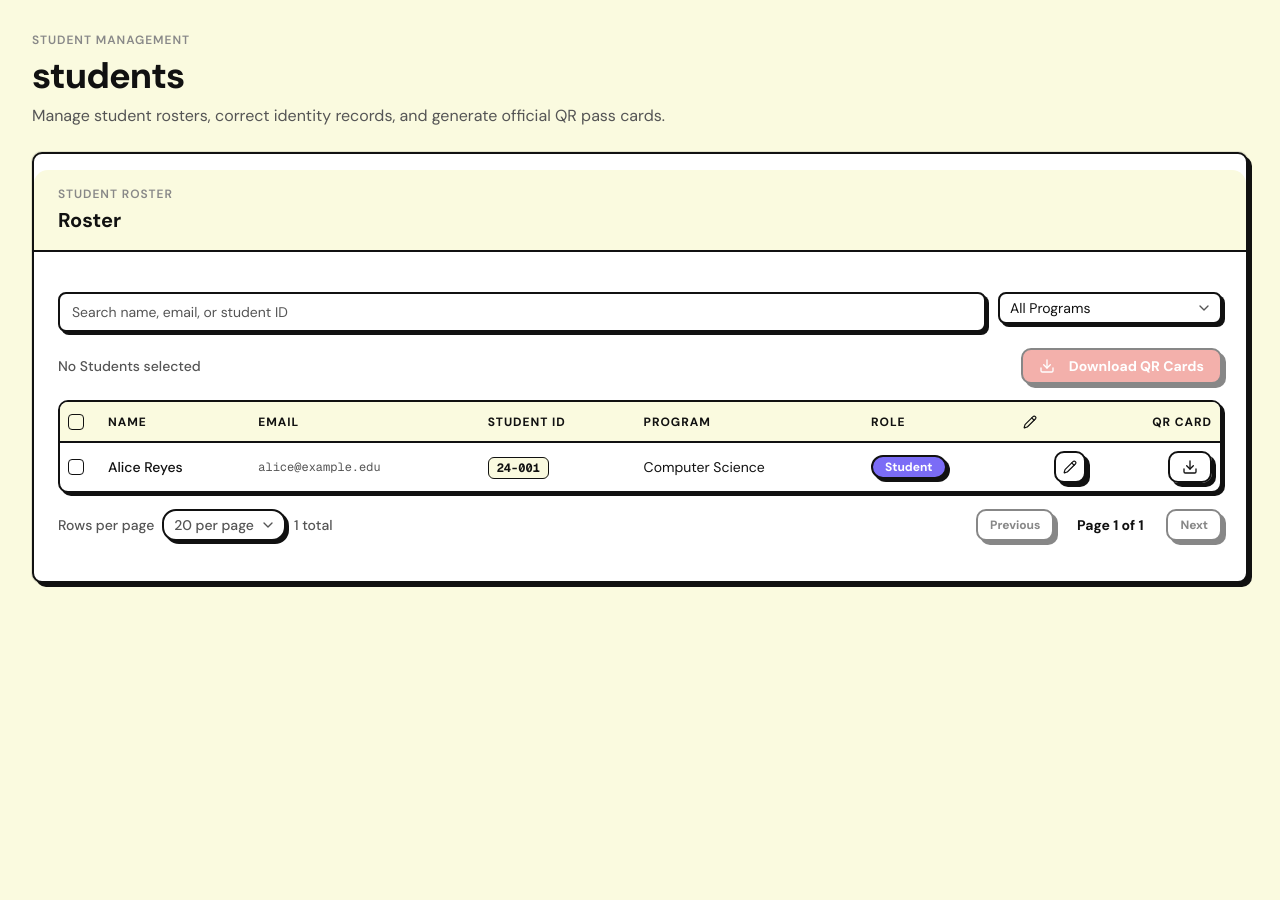
Test: QR Card invalidation confirmation (spec #143) › shows the confirmation modal before applying a Program-only correction
Click the button named "Edit student" at (1070, 467), box [1054,451,1086,483]
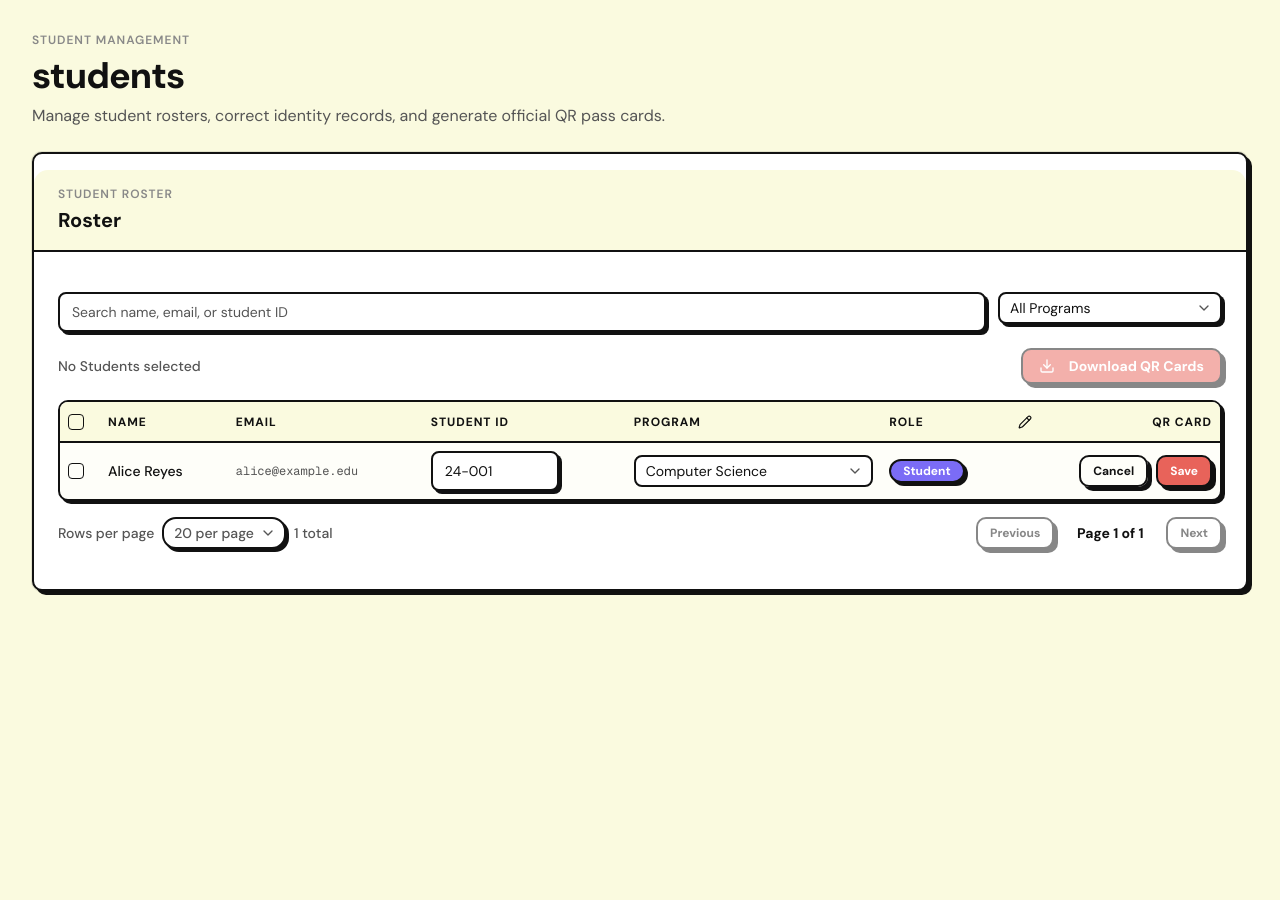
Click the dropdown "Computer Science" at (754, 471), box [634,455,873,487]
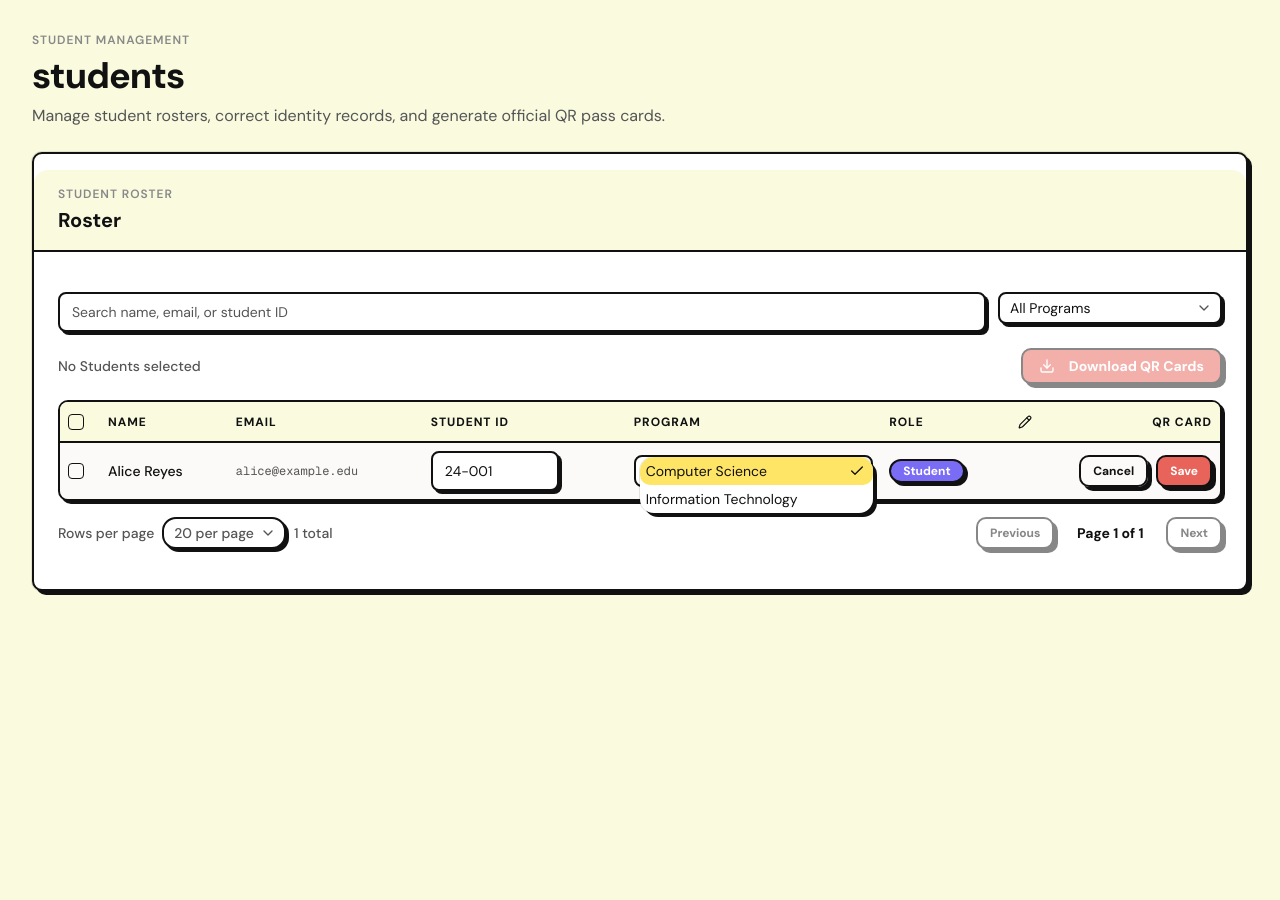
Click the option "Information Technology" at (722, 499), box [646,490,798,508]
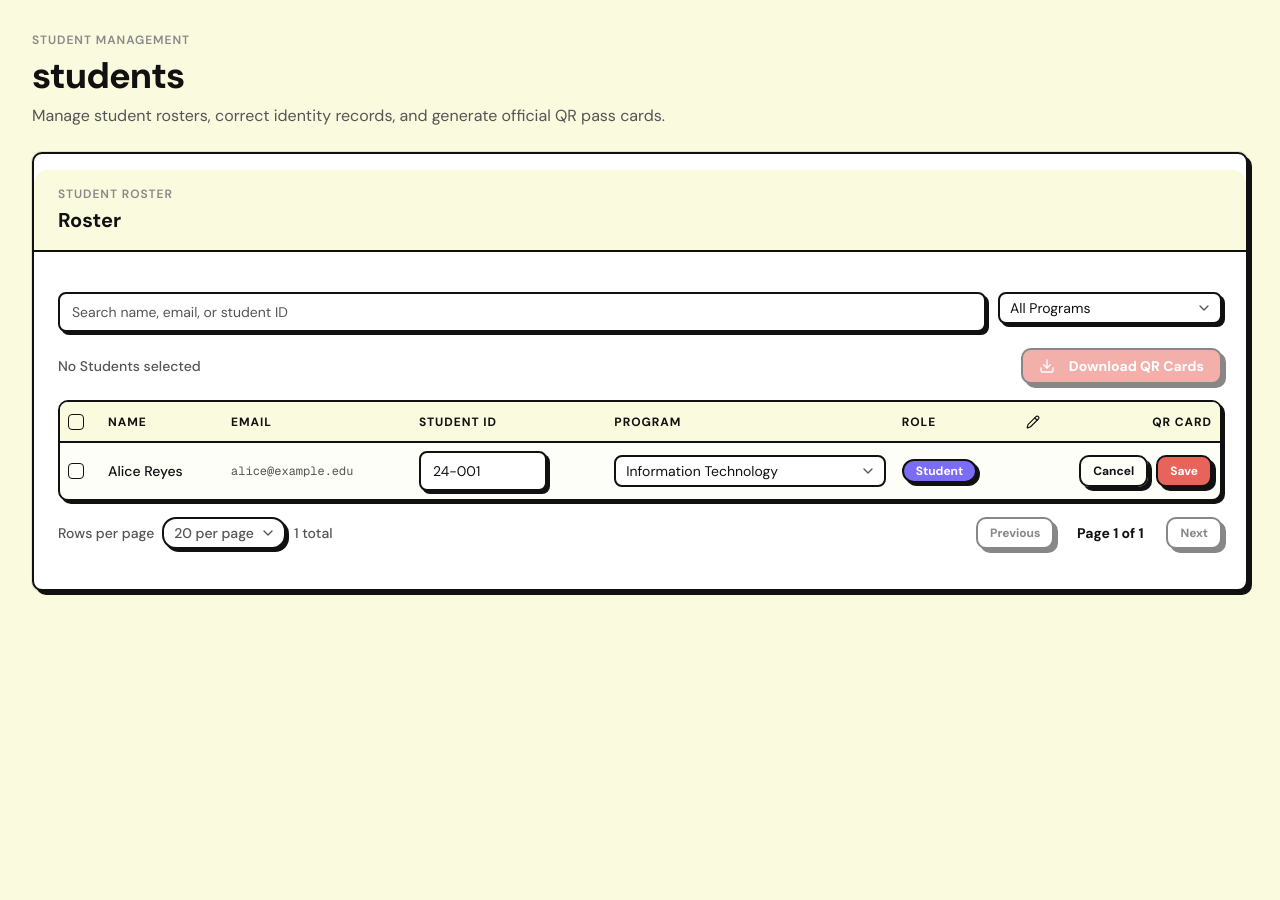
Click the button "Save" at (1184, 471), box [1156,455,1212,487]
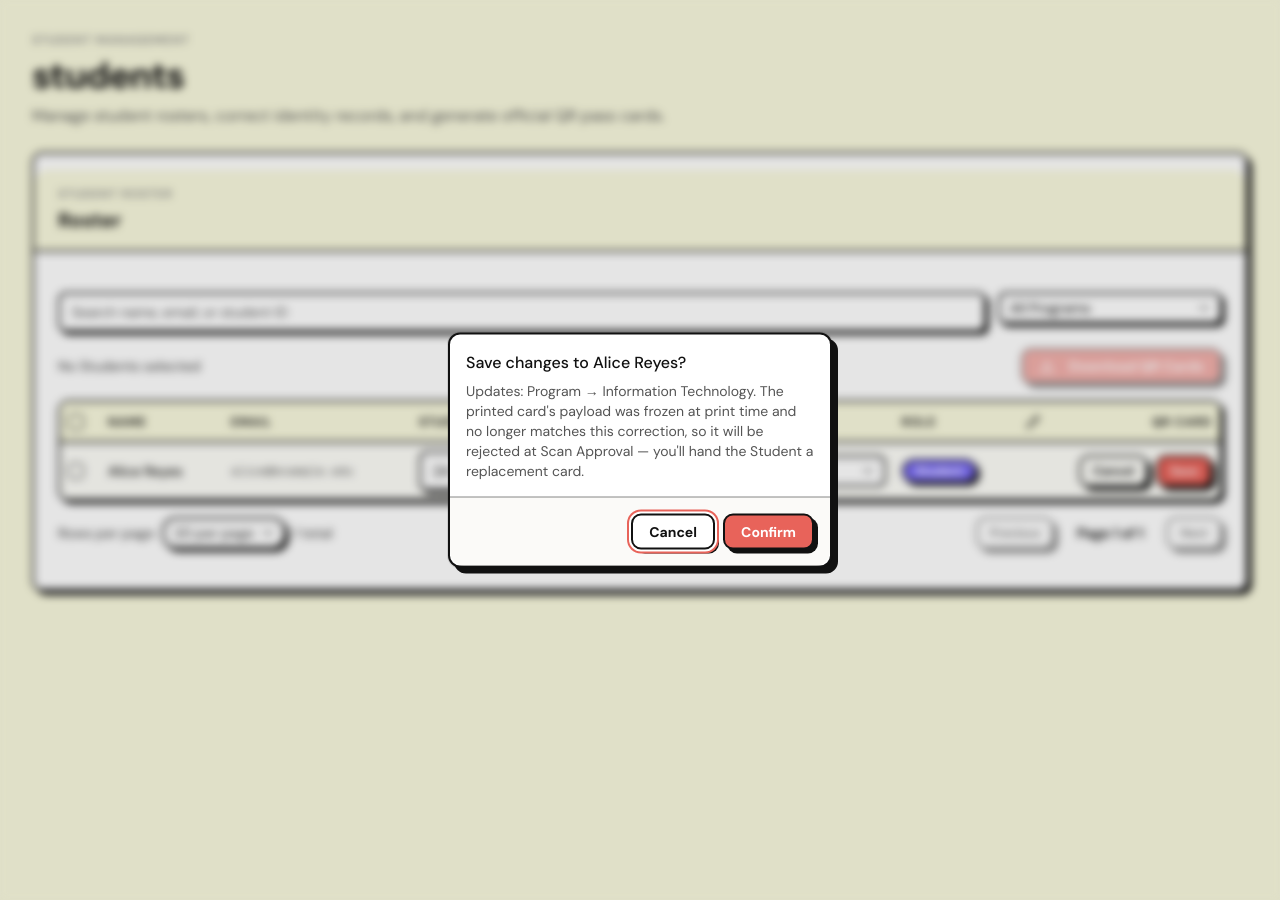
expect the heading "Save changes to Alice Reyes?" is shown: met, box [466,350,686,374]
